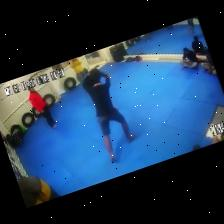person: (82, 69, 134, 162), (17, 177, 59, 207), (27, 87, 56, 128), (180, 48, 198, 68), (200, 50, 215, 74), (69, 58, 84, 82), (191, 36, 205, 55), (186, 18, 194, 34), (166, 24, 174, 31), (211, 136, 219, 143), (144, 33, 150, 42)
